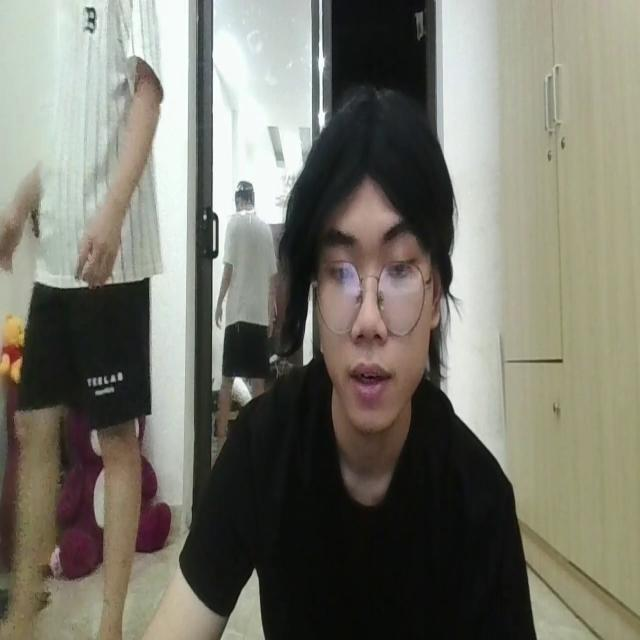extra_person: (0, 0, 162, 640)
student: (157, 84, 538, 640)
